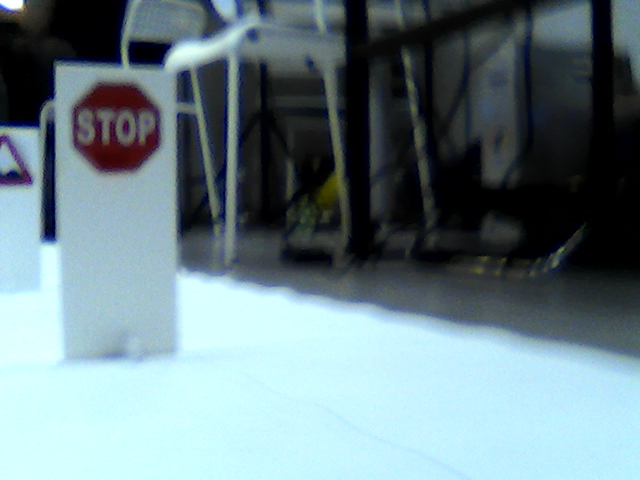Stop: (68, 80, 164, 177)
